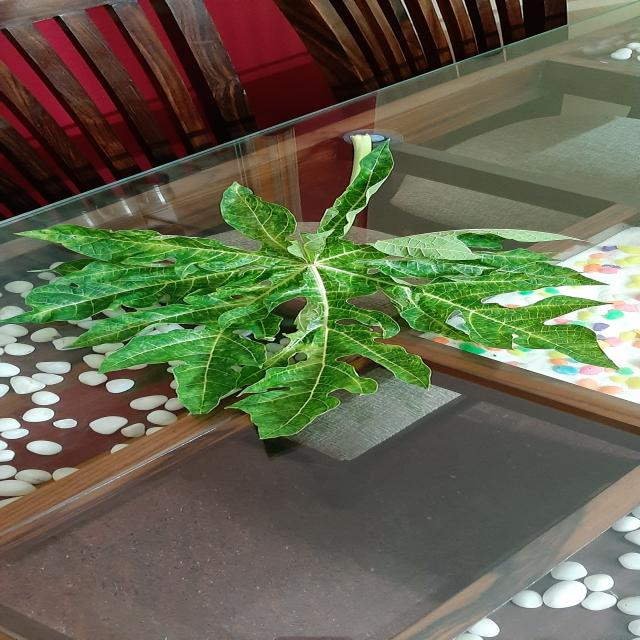leaf spot: (8, 144, 612, 439)
